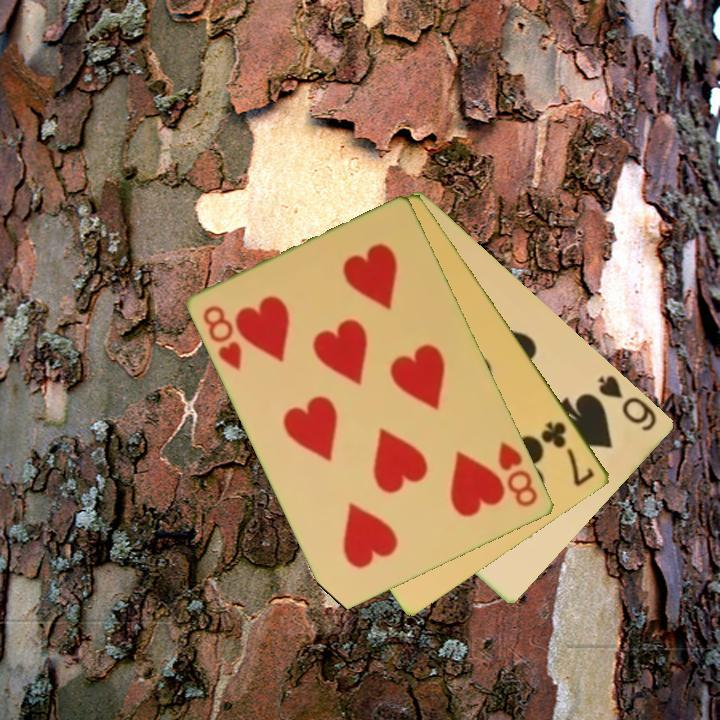6s: (595, 371, 660, 435)
7c: (538, 417, 598, 490)
8h: (495, 438, 542, 510), (199, 302, 246, 374)
